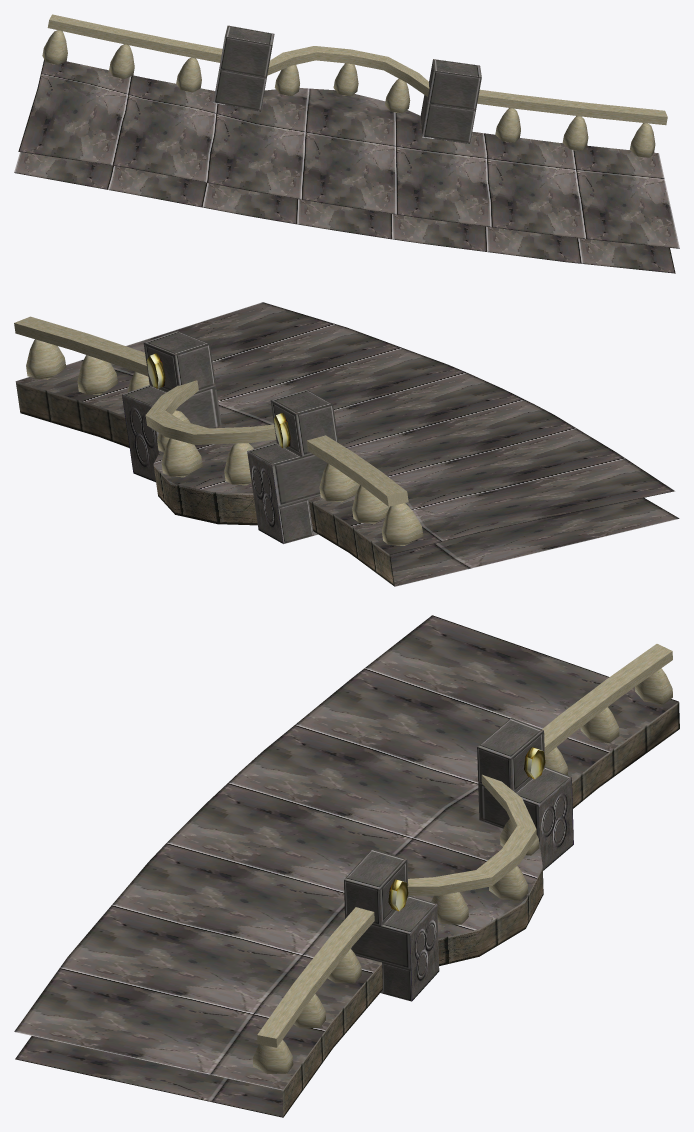
File: CH09_SMAUG_PLAYSURFACE_LAIR16.fbx
The picture shows the model from 3 angles, top to bottom: view 1: azimuth 30°, elevation 25°; view 2: azimuth 150°, elevation 25°; view 3: azimuth 270°, elevation 25°; orthographic projection. The views are drawn at different scales.
Parts seen in each view (by area): view 1: CH09_SMAUG_PLAYSURFACE_LAIR16; view 2: CH09_SMAUG_PLAYSURFACE_LAIR16; view 3: CH09_SMAUG_PLAYSURFACE_LAIR16.
Boxes of the visible parts, x1,y1,x2,y2 form: CH09_SMAUG_PLAYSURFACE_LAIR16: (14, 14, 679, 273); CH09_SMAUG_PLAYSURFACE_LAIR16: (14, 302, 679, 586); CH09_SMAUG_PLAYSURFACE_LAIR16: (14, 615, 679, 1117).
Bounding box in the file's own units: 154358 × 39918 × 121722.
5 materials, 5 textured.
